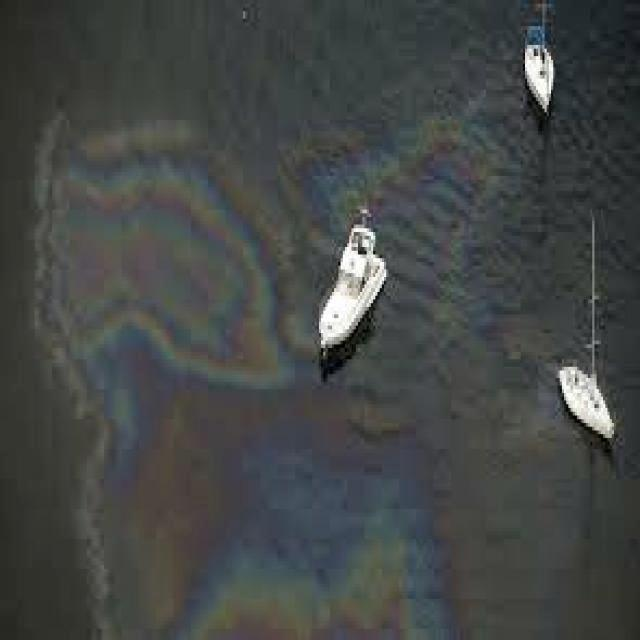oil: (25, 111, 441, 640)
